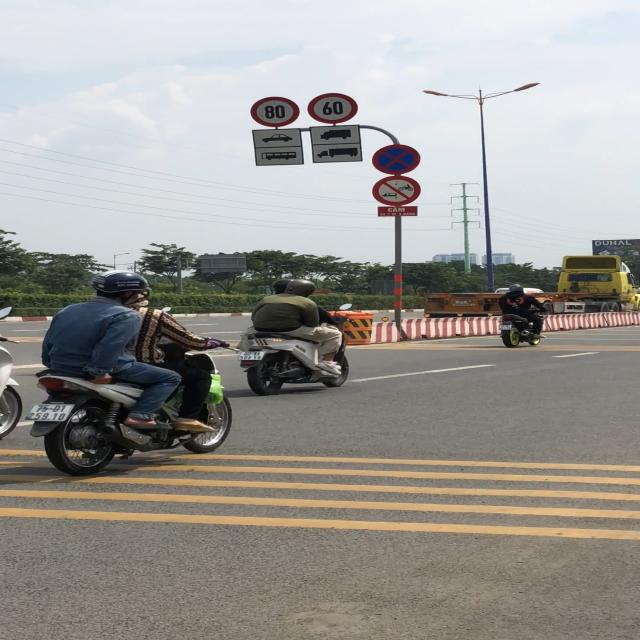Bien bao cam dung xe va do xe: (371, 143, 423, 176)
Bien bao toc do toi da cho phep: (305, 92, 359, 124), (248, 95, 300, 128)
